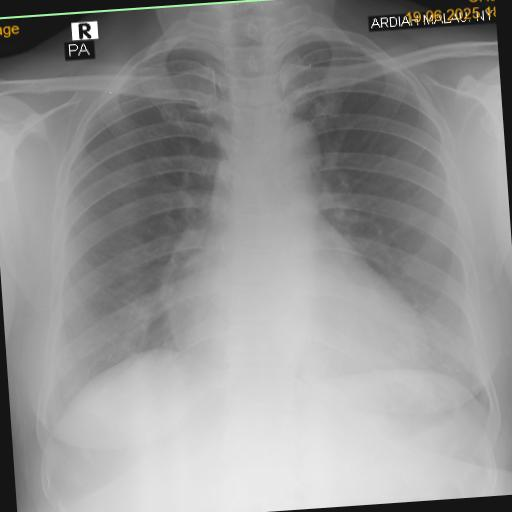kardiomegali: (2, 13, 512, 458)
